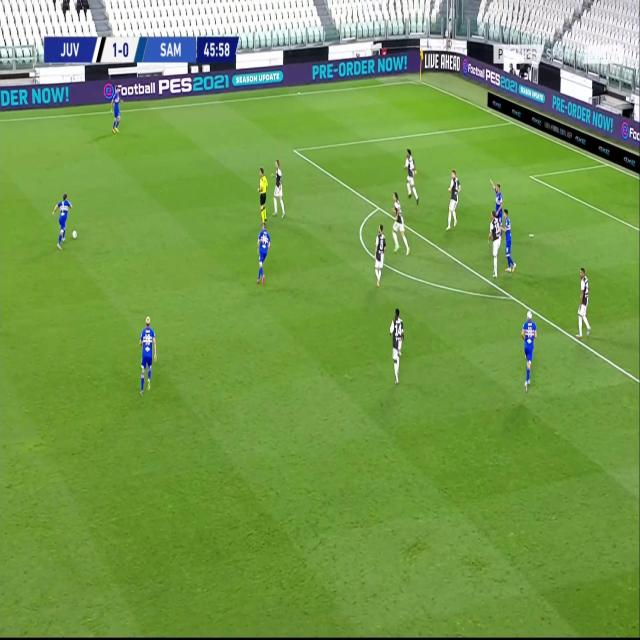ball: (72, 229, 78, 241)
player: (135, 313, 158, 398), (573, 265, 594, 339), (390, 192, 411, 256), (520, 308, 536, 391), (388, 307, 404, 383), (51, 193, 72, 250), (446, 169, 463, 231), (256, 224, 272, 289), (402, 149, 420, 206), (269, 159, 286, 218), (373, 224, 388, 288), (503, 207, 516, 274), (490, 211, 501, 281), (110, 85, 124, 137), (257, 166, 267, 226), (493, 180, 504, 216)
